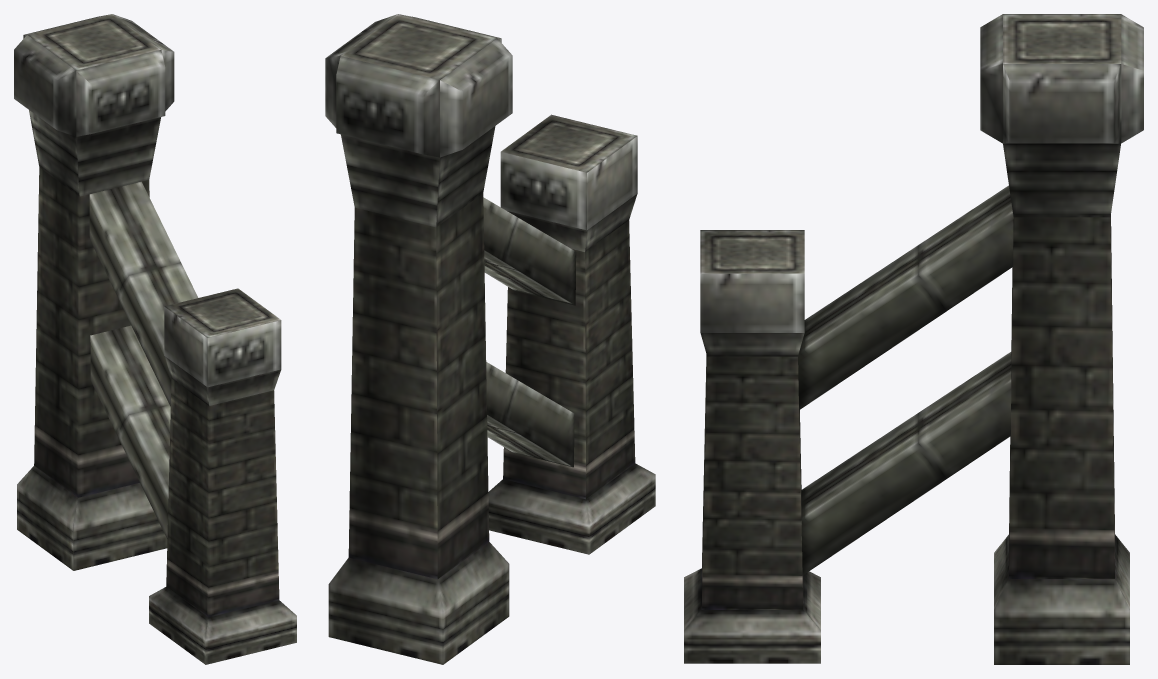
3 renders of one model, left to right at view 1: azimuth 30°, elevation 25°; view 2: azimuth 150°, elevation 25°; view 3: azimuth 270°, elevation 25°, orthographic. The views are drawn at different scales.
Parts seen in each view (by area): view 1: object83; view 2: object83; view 3: object83.
Boxes of the visible parts, x1,y1,x2,y2 form: object83: (14,14,296,664); object83: (325,14,655,664); object83: (684,14,1143,664).
Bounding box in the file's own units: 59.42 × 240 × 167.
Materials: 1 (1 with a texture image).
